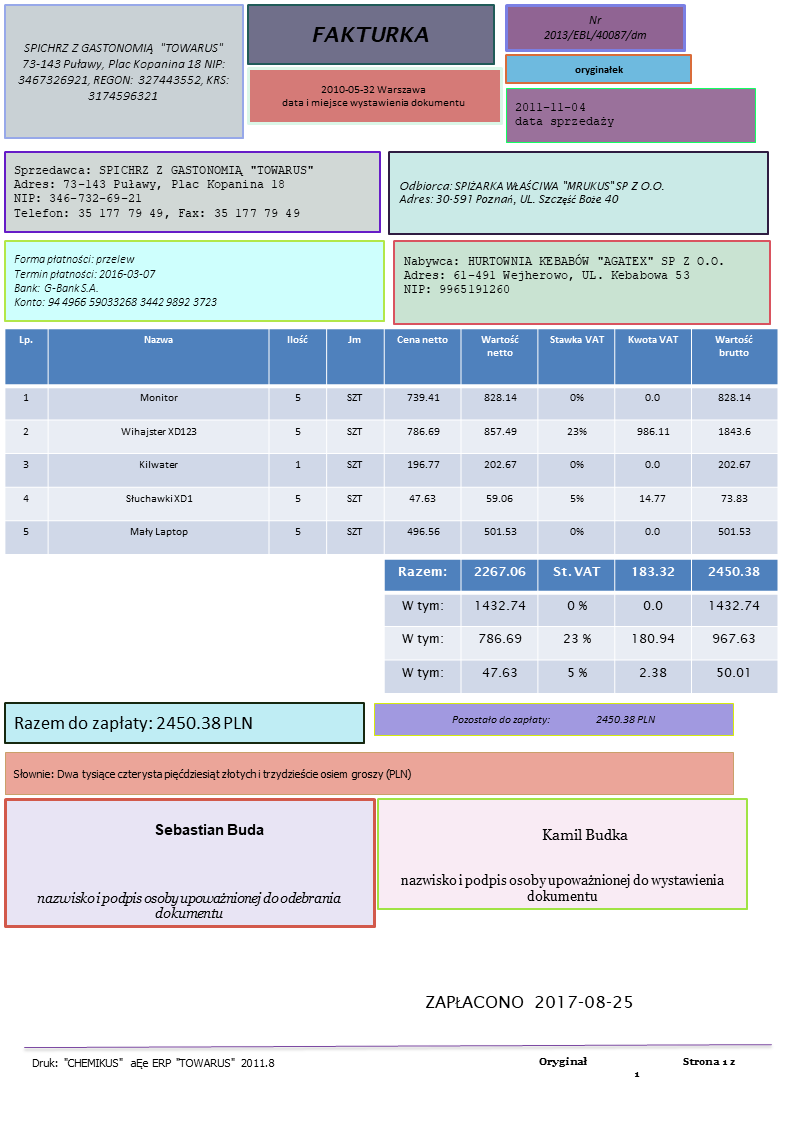Table: (4, 329, 780, 555), (382, 558, 777, 695)
TextBox: (10, 161, 313, 222), (14, 37, 231, 107), (401, 251, 725, 297), (11, 250, 220, 311), (396, 871, 728, 905), (34, 887, 342, 921), (10, 765, 412, 787), (397, 176, 667, 207), (280, 82, 468, 112), (12, 711, 256, 734), (536, 1054, 736, 1079), (30, 1054, 277, 1073), (422, 991, 634, 1012), (449, 709, 659, 728), (306, 19, 433, 49), (539, 10, 651, 43), (512, 99, 616, 132), (152, 820, 267, 841), (539, 823, 629, 845), (572, 62, 625, 78)
